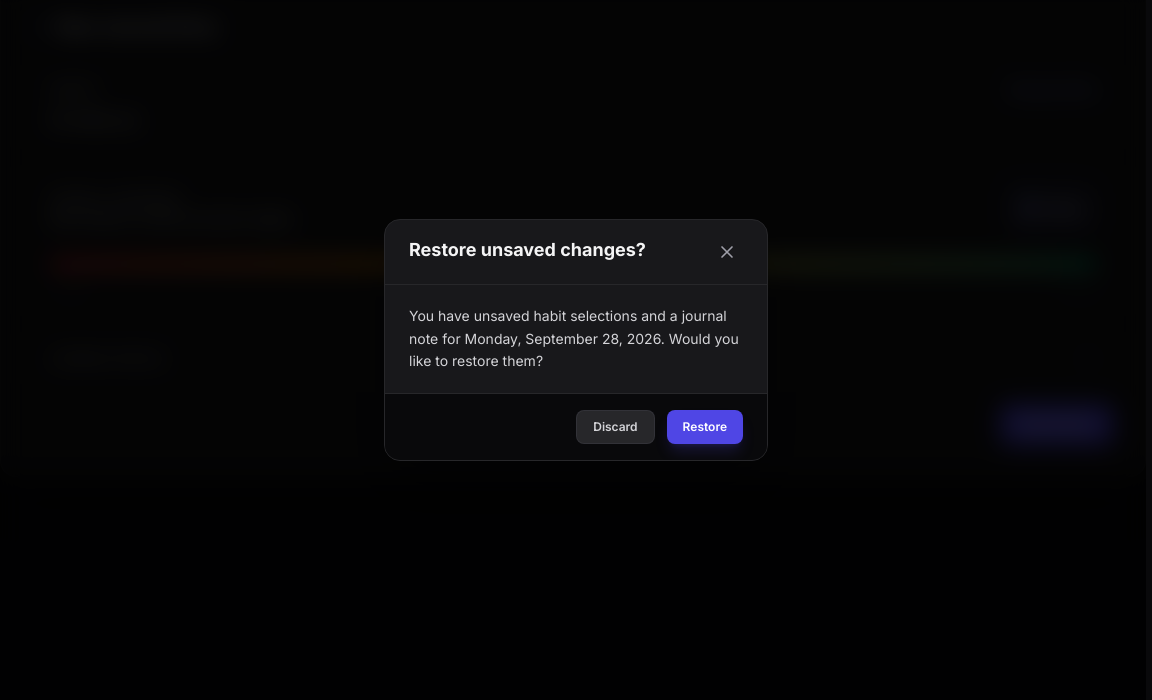
Test: JournalEntryForm draft persistence › offers drafts on the pristine new-entry form
The image size is (1152, 700).
Expected: the heading "Restore unsaved changes?" is shown, [409,236,646,264]
Click the button "Restore" at (705, 427), box [667,410,743,444]
(page scrolled)
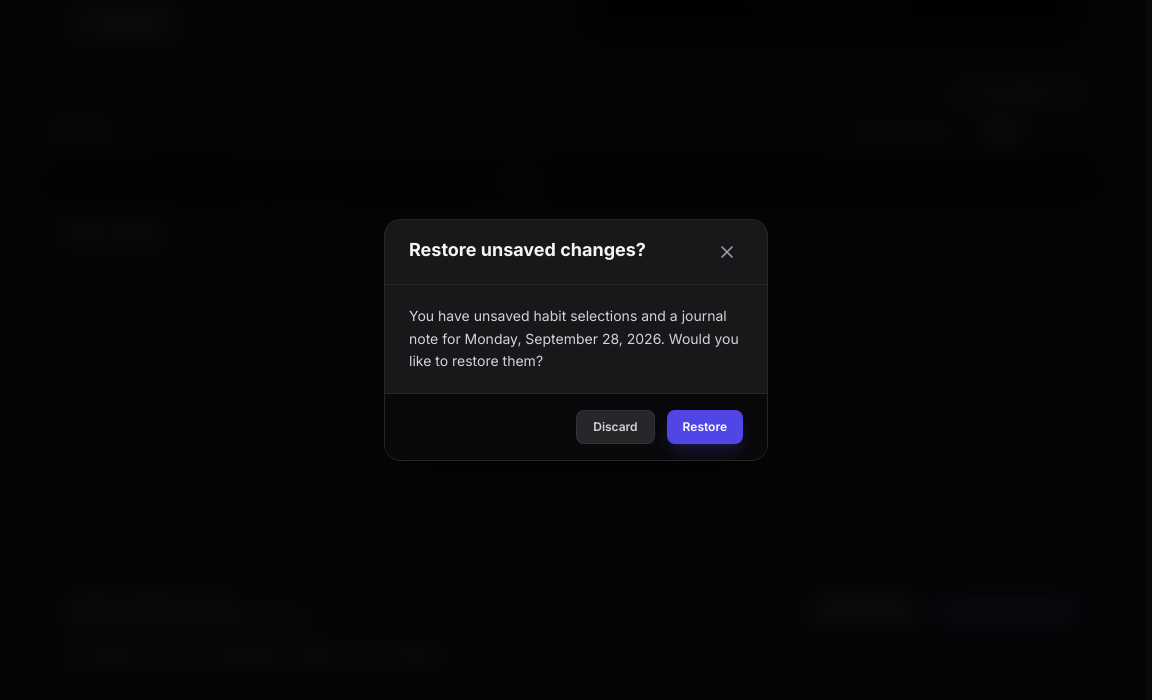
Expected: the text box with placeholder "What's on your mind today? Markdown is supported." holds "Fresh words", [50,210,1096,550]
